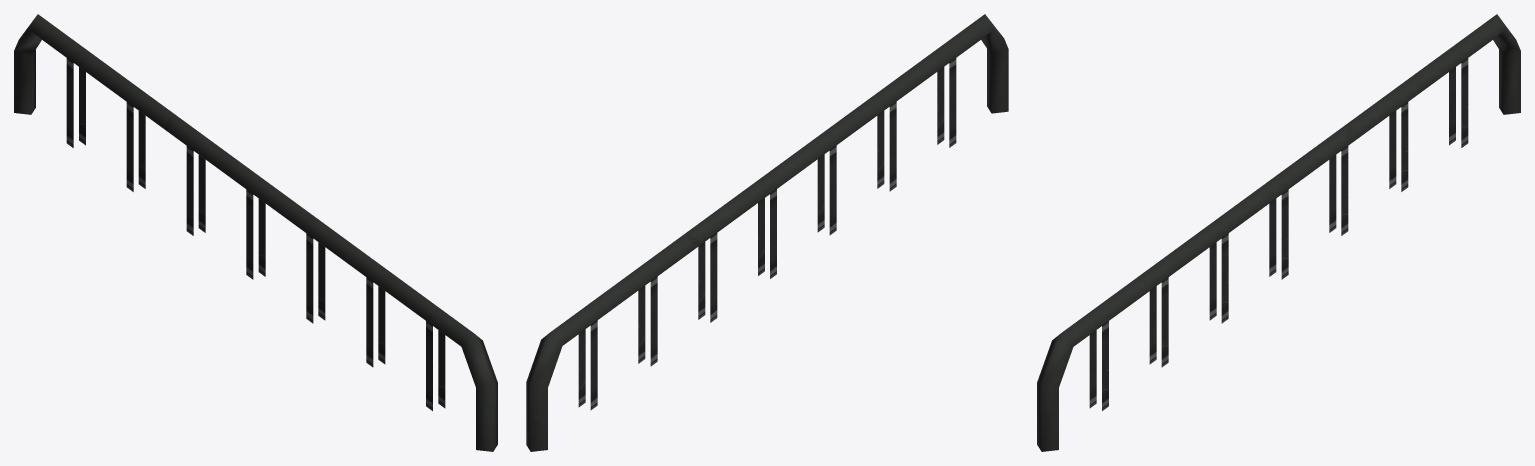
Rendered from Barrier_Edge_2m_L2.fbx.
3 views of the same model, side by side, from view 1: azimuth 30°, elevation 25°; view 2: azimuth 150°, elevation 25°; view 3: azimuth 330°, elevation 25° (orthographic).
Parts seen in each view (by area): view 1: Barrier_Edge_2m_L2; view 2: Barrier_Edge_2m_L2; view 3: Barrier_Edge_2m_L2.
Boxes of the visible parts, bbox=[...] form: Barrier_Edge_2m_L2: bbox=[14, 14, 497, 451]; Barrier_Edge_2m_L2: bbox=[526, 14, 1008, 451]; Barrier_Edge_2m_L2: bbox=[1037, 14, 1520, 451].
Bounding box in the file's own units: 5.27 × 24.35 × 198.
